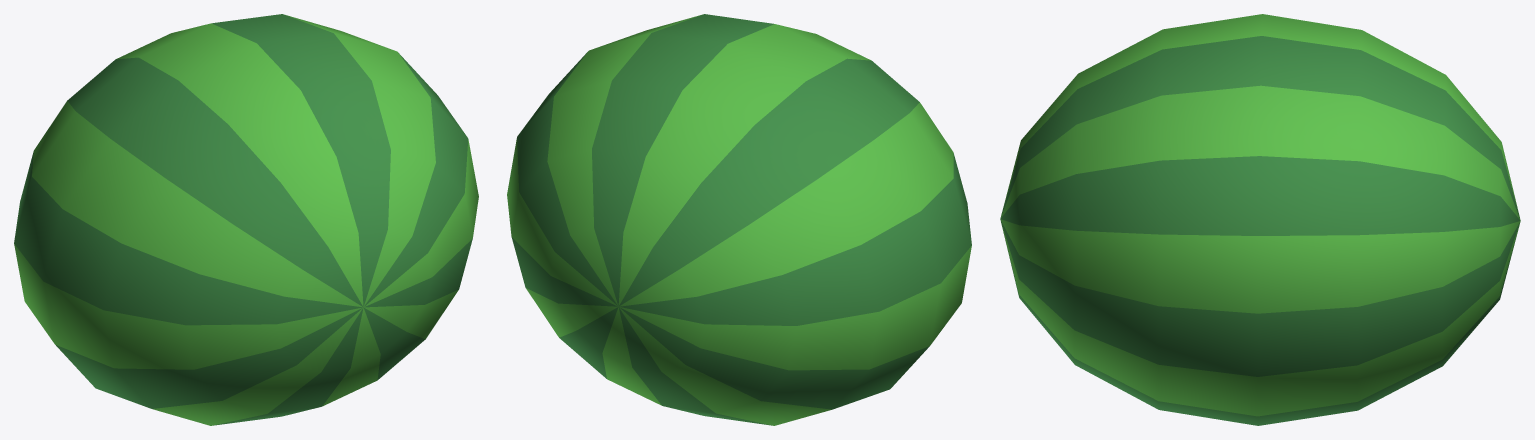
Rendered from Melancia.fbx.
The picture shows the model from 3 angles, left to right: view 1: azimuth 30°, elevation 25°; view 2: azimuth 150°, elevation 25°; view 3: azimuth 270°, elevation 25°; orthographic projection. The views are drawn at different scales.
Parts seen in each view (by area): view 1: Melancia; view 2: Melancia; view 3: Melancia.
Boxes of the visible parts, <box> form: Melancia: <box>14,14,478,425</box>; Melancia: <box>507,14,971,425</box>; Melancia: <box>1000,14,1520,425</box>.
Bounding box in the file's own units: 51.75 × 52.7 × 42.46.
